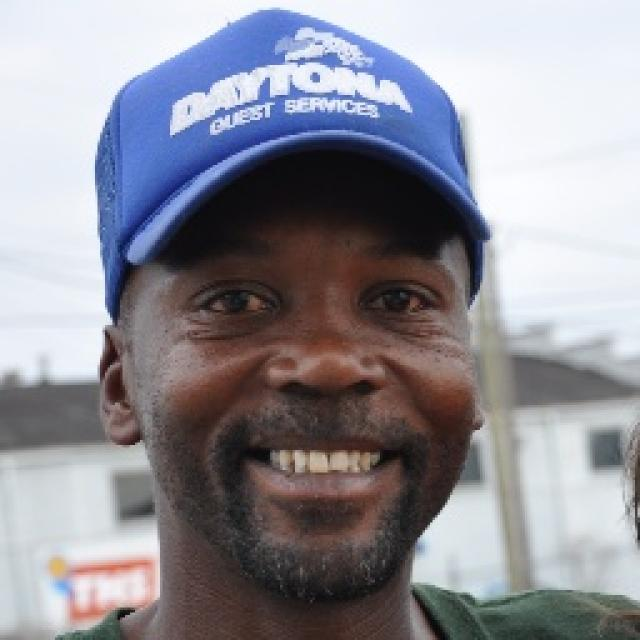earlobe: (96, 321, 142, 447)
